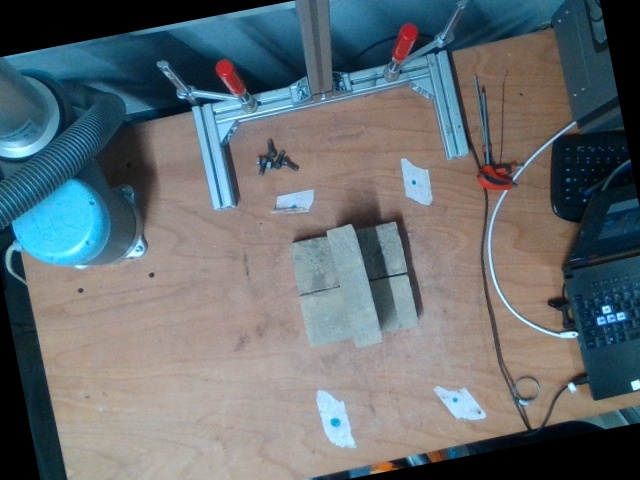brick-side: (329, 226, 383, 344)
